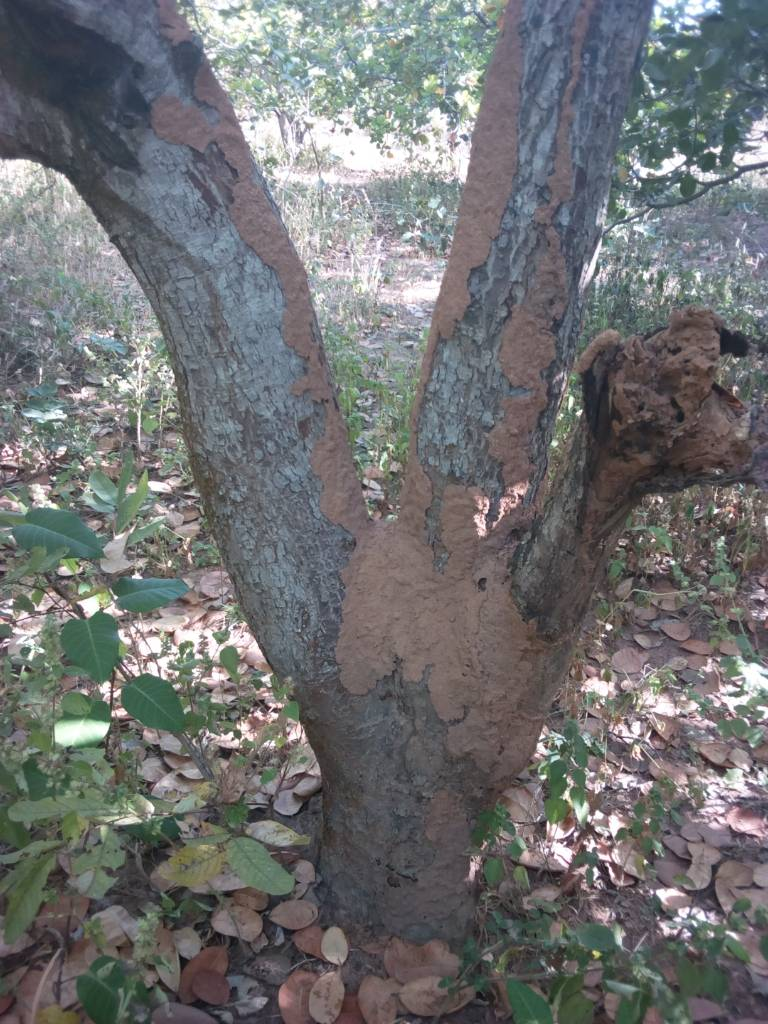Termites: (336, 516, 547, 771), (444, 130, 568, 514), (579, 322, 765, 492)
